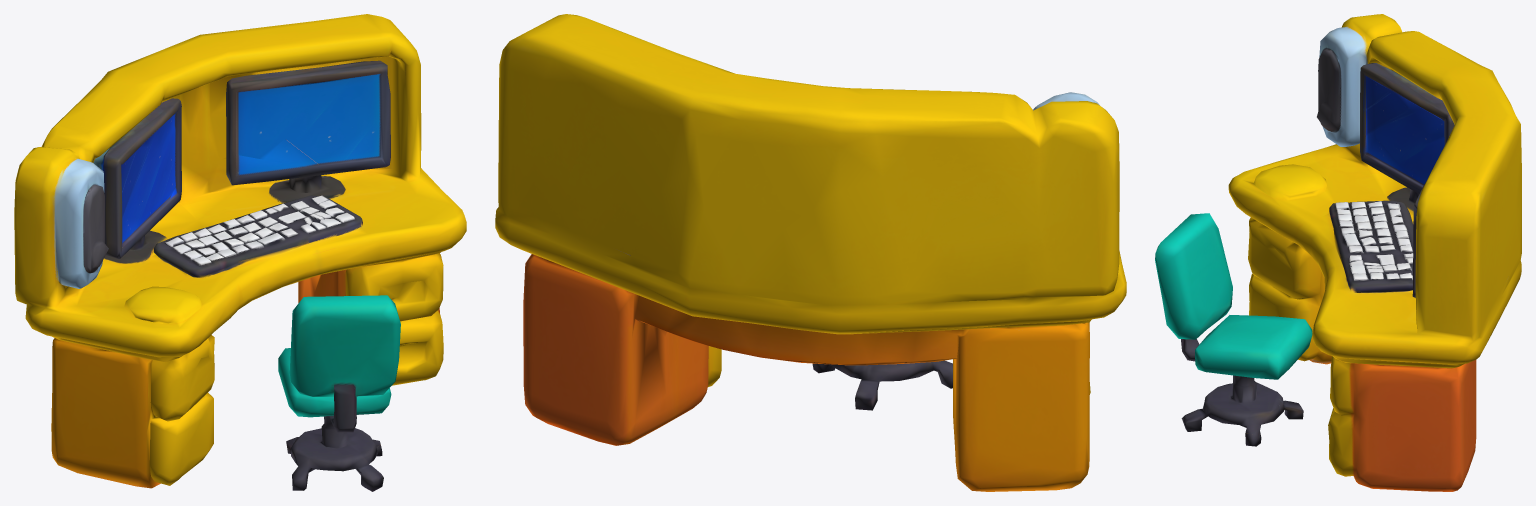
Rendered from leitstand.glb.
3 renders of one model, left to right at view 1: azimuth 30°, elevation 25°; view 2: azimuth 150°, elevation 25°; view 3: azimuth 270°, elevation 25°, orthographic. The views are drawn at different scales.
Parts seen in each view (by area): view 1: tripo_node_b14fc74b-116c-4db2-83f4-71c3d86548b6; view 2: tripo_node_b14fc74b-116c-4db2-83f4-71c3d86548b6; view 3: tripo_node_b14fc74b-116c-4db2-83f4-71c3d86548b6.
Boxes of the visible parts, x1=… form: tripo_node_b14fc74b-116c-4db2-83f4-71c3d86548b6: x1=14, y1=14, x2=466, y2=491; tripo_node_b14fc74b-116c-4db2-83f4-71c3d86548b6: x1=495, y1=14, x2=1126, y2=491; tripo_node_b14fc74b-116c-4db2-83f4-71c3d86548b6: x1=1155, y1=14, x2=1521, y2=491.
Bounding box in the file's own units: 0.9803 × 0.692 × 0.7313.
1 material, 1 textured.
